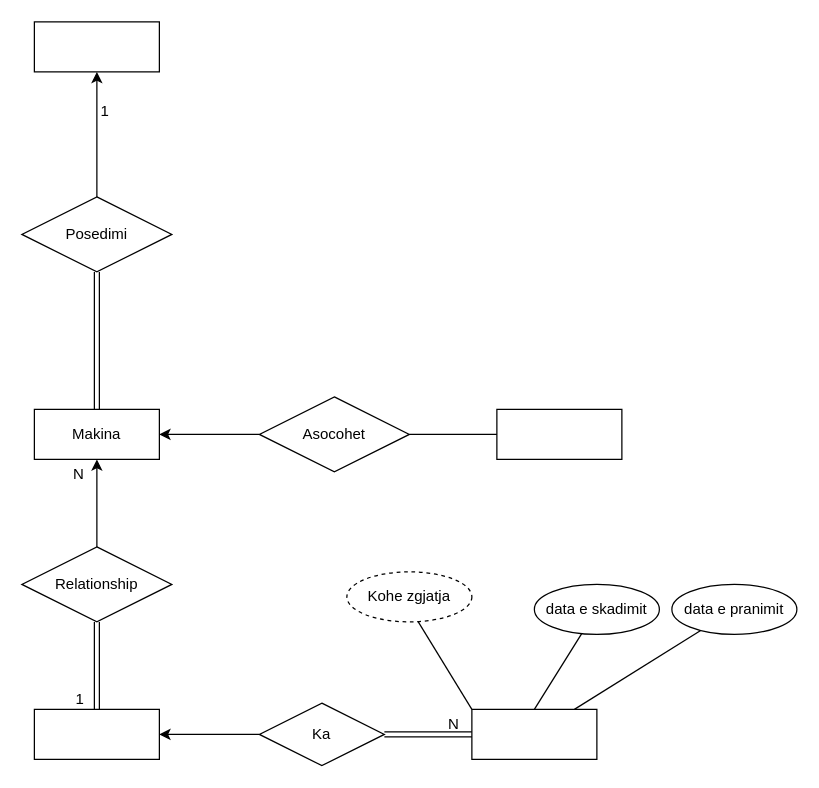
The diagram is 819 pixels wide and 788 high, and some of its shapes have lost their labels. Here are the shapes that lost their labels. From the top down, the box of each, then its label:
(33, 21, 159, 72): Konsumatoret
(496, 408, 622, 459): Aksidentet e Regjistruara
(33, 708, 159, 759): Polisa e sigurimit
(471, 708, 597, 759): Pagesa Premium
